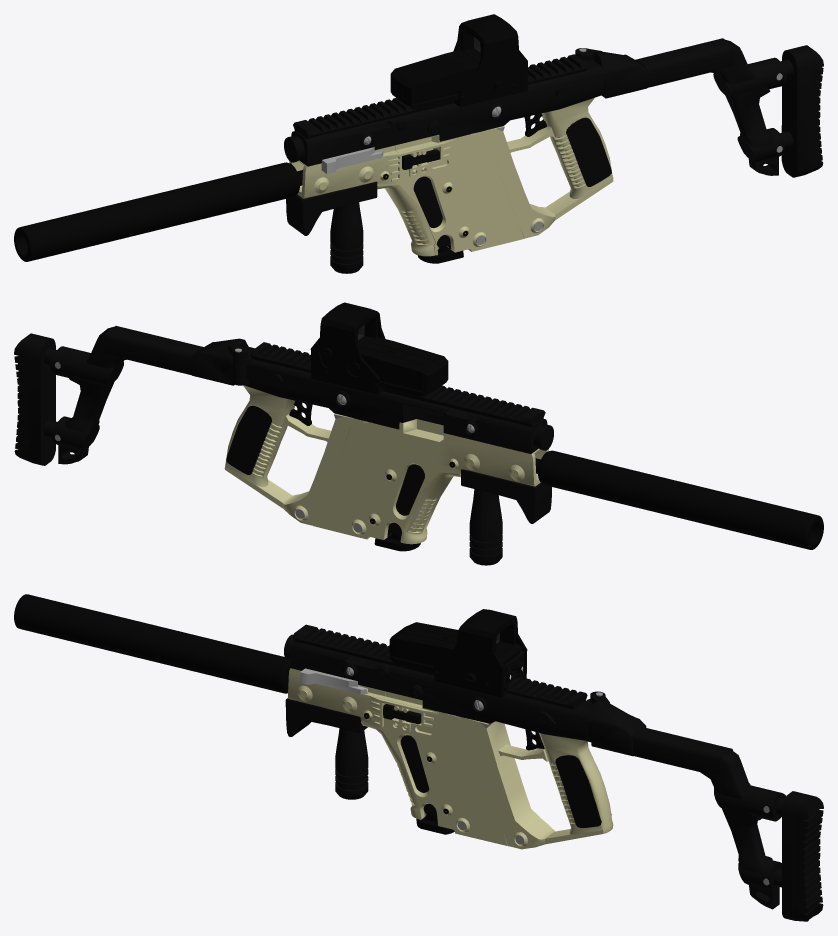
Rendered from Rifle.FBX.
3 views of the same model, one above another, from view 1: azimuth 30°, elevation 25°; view 2: azimuth 150°, elevation 25°; view 3: azimuth 330°, elevation 25° (orthographic).
Visible parts, largest first — view 1: vector, vector_stock, vector_barrel, EO-tech_holographic sight, vector_foregrip; view 2: vector, vector_stock, vector_barrel, EO-tech_holographic sight, vector_foregrip; view 3: vector, vector_stock, vector_barrel, EO-tech_holographic sight, vector_foregrip.
Boxes of the visible parts, x1=… form: vector: x1=284, y1=48, x2=613, y2=256; vector_stock: x1=575, y1=38, x2=823, y2=177; vector_barrel: x1=14, y1=162, x2=302, y2=261; EO-tech_holographic sight: x1=390, y1=14, x2=527, y2=109; vector_foregrip: x1=286, y1=181, x2=377, y2=273; vector: x1=224, y1=342, x2=553, y2=544; vector_stock: x1=14, y1=326, x2=248, y2=465; vector_barrel: x1=535, y1=450, x2=823, y2=549; EO-tech_holographic sight: x1=310, y1=302, x2=448, y2=396; vector_foregrip: x1=461, y1=469, x2=551, y2=565; vector: x1=284, y1=624, x2=613, y2=849; vector_stock: x1=587, y1=691, x2=823, y2=921; vector_barrel: x1=14, y1=594, x2=290, y2=693; EO-tech_holographic sight: x1=389, y1=609, x2=527, y2=697; vector_foregrip: x1=285, y1=698, x2=368, y2=799.
Bounding box in the file's own units: 34.73 × 9.35 × 2.16.
